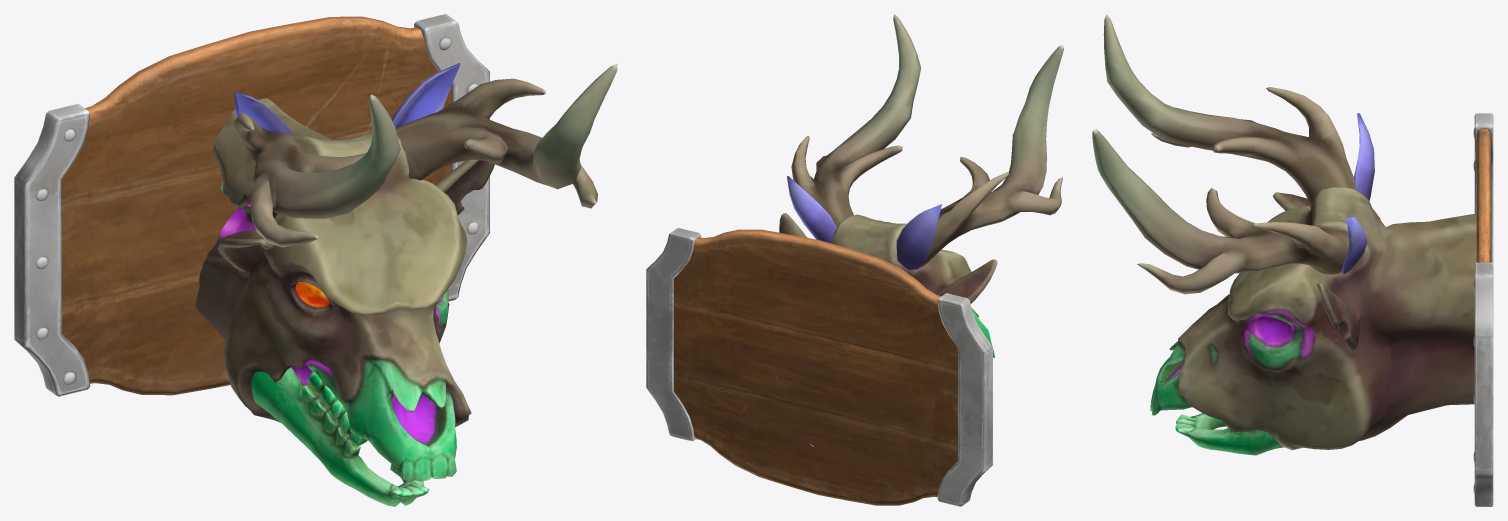
The picture shows the model from 3 angles, left to right: view 1: azimuth 30°, elevation 25°; view 2: azimuth 150°, elevation 25°; view 3: azimuth 270°, elevation 25°; orthographic projection. The views are drawn at different scales.
Visible parts, largest first — view 1: SM_Trophy_Plaque_ZombirCow_LOD0; view 2: SM_Trophy_Plaque_ZombirCow_LOD0; view 3: SM_Trophy_Plaque_ZombirCow_LOD0.
Boxes of the visible parts, x1=… form: SM_Trophy_Plaque_ZombirCow_LOD0: x1=14, y1=14, x2=617, y2=506; SM_Trophy_Plaque_ZombirCow_LOD0: x1=646, y1=14, x2=1063, y2=506; SM_Trophy_Plaque_ZombirCow_LOD0: x1=1092, y1=14, x2=1493, y2=506.
Bounding box in the file's own units: 0.8959 × 0.8759 × 0.8027.
Materials: 2 (2 with a texture image).
